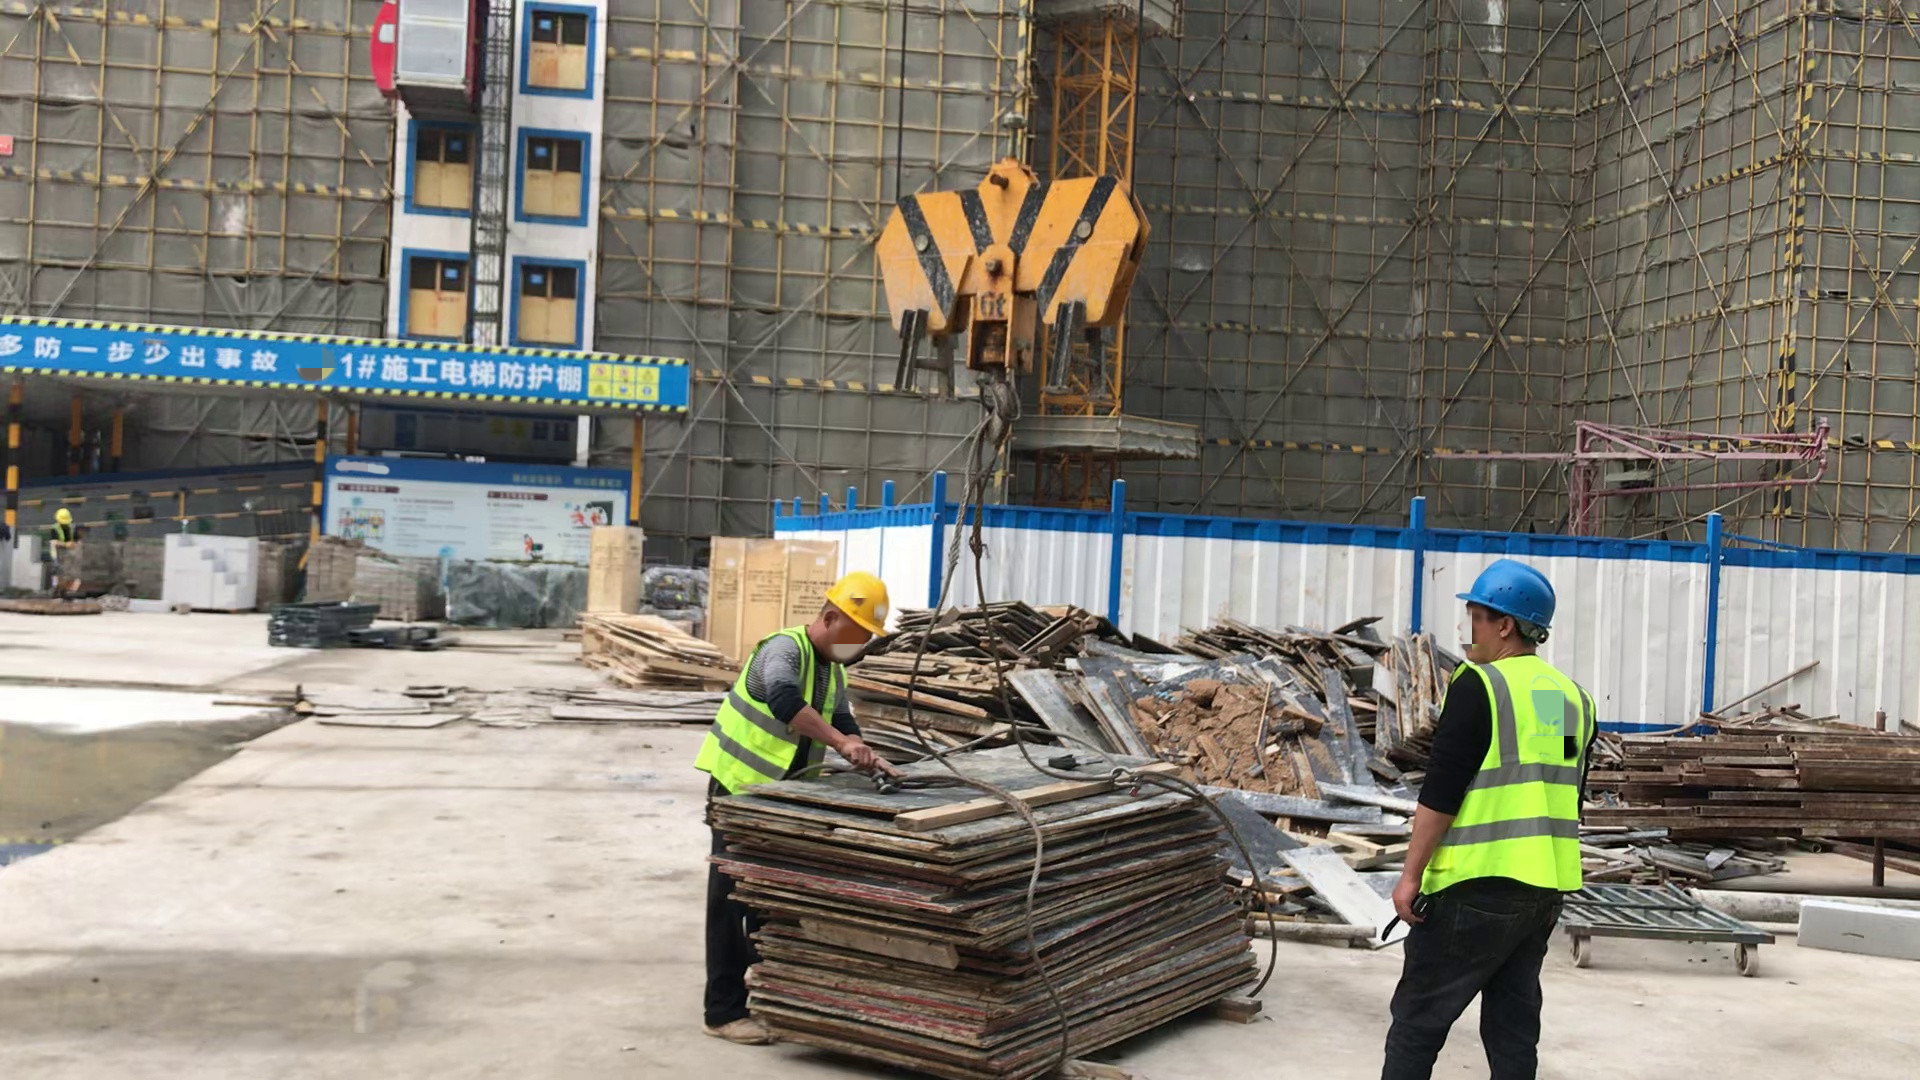board: (711, 738, 1263, 1080)
brick: (159, 532, 258, 609)
helmet: (1462, 554, 1550, 630), (824, 569, 902, 636)
hook: (870, 158, 1148, 442)
person: (1369, 558, 1593, 1080), (700, 569, 901, 1045)
slogan: (2, 325, 283, 375), (583, 359, 661, 402)
vest: (1417, 653, 1596, 901), (701, 623, 845, 790)
